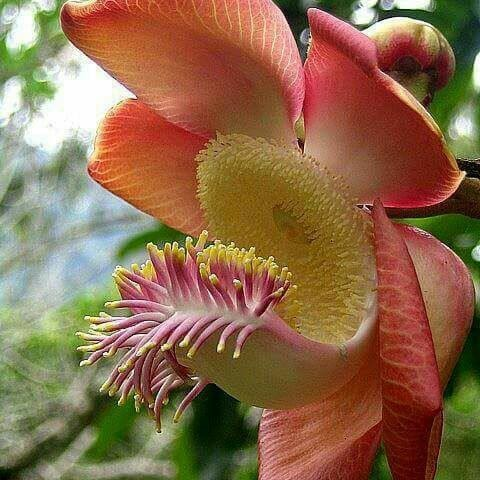obstacle: (69, 7, 457, 453)
